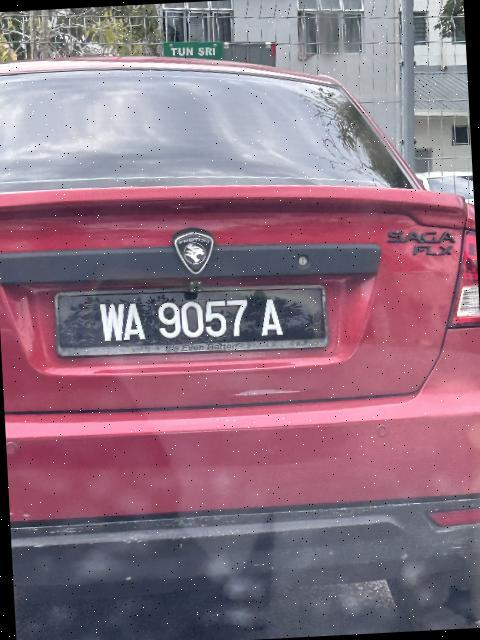License_Plate: (50, 275, 345, 369)
WA9057A: (50, 275, 345, 369)
car: (1, 32, 480, 640)
